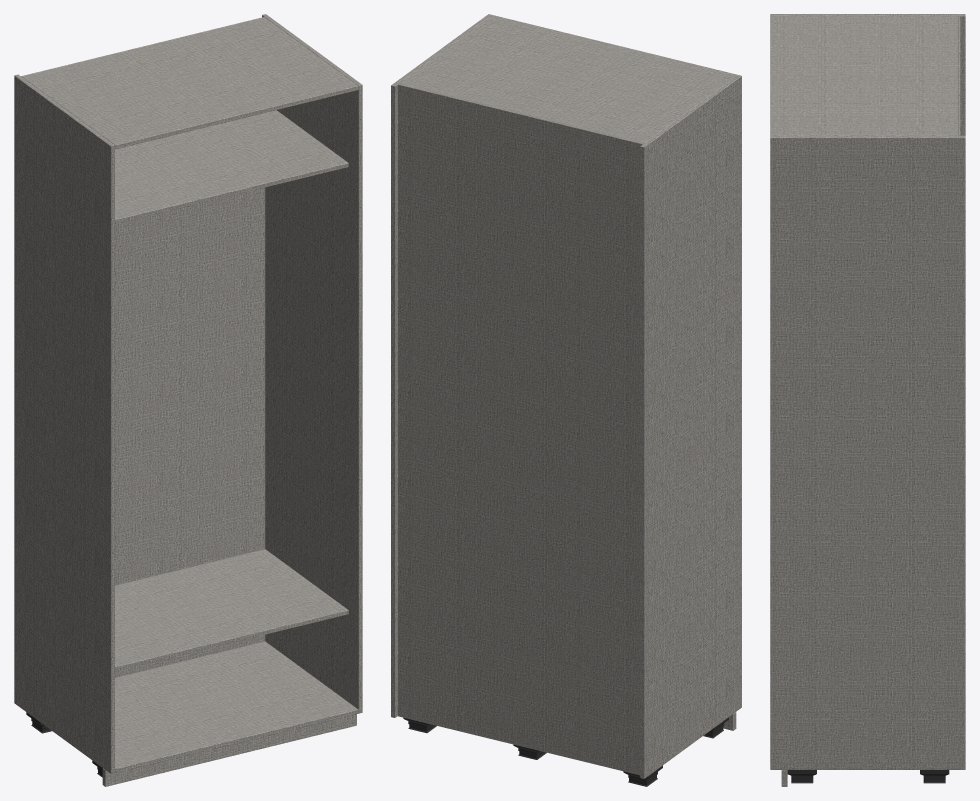
File: cbib12126.gltf
The picture shows the model from 3 angles, left to right: view 1: azimuth 30°, elevation 25°; view 2: azimuth 150°, elevation 25°; view 3: azimuth 270°, elevation 25°; orthographic projection.
Parts seen in each view (by area): view 1: CBIB12126; view 2: CBIB12126; view 3: CBIB12126.
Boxes of the visible parts, box(x1,y1,x2,y2) form: CBIB12126: box(14, 14, 362, 786); CBIB12126: box(391, 14, 741, 786); CBIB12126: box(770, 14, 965, 786).
Bounding box in the file's own units: 0.9 × 2.2 × 0.6.
3 materials, 2 textured.
